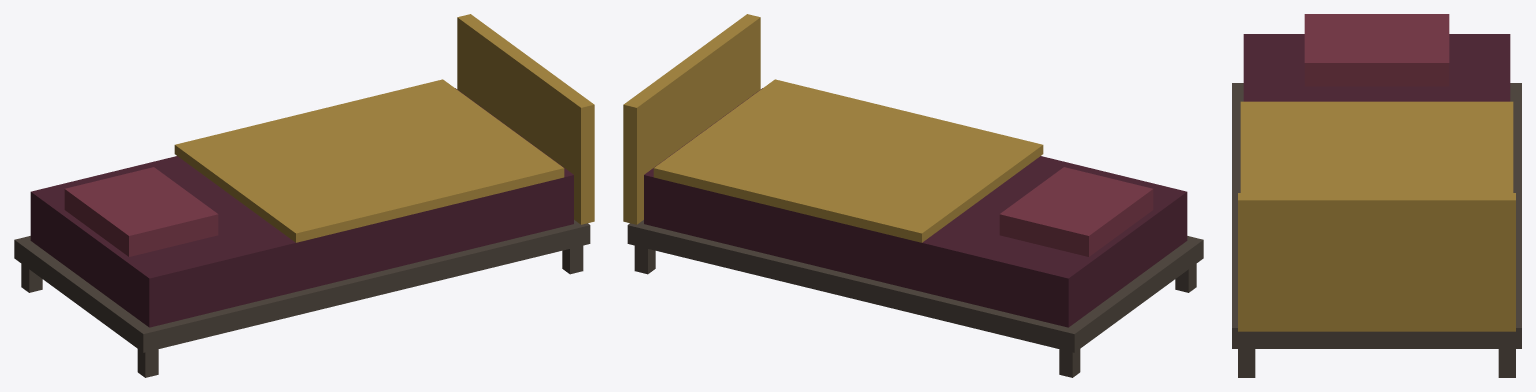
Rendered from criminal_bunk.glb.
3 renders of one model, left to right at view 1: azimuth 30°, elevation 25°; view 2: azimuth 150°, elevation 25°; view 3: azimuth 270°, elevation 25°, orthographic. The views are drawn at different scales.
Visible parts, largest first — view 1: criminal_bunk; view 2: criminal_bunk; view 3: criminal_bunk.
Part boxes in pixels (<box>): criminal_bunk: <box>14,14,594,377</box>; criminal_bunk: <box>623,14,1203,377</box>; criminal_bunk: <box>1232,14,1521,377</box>.
Bounding box in the file's own units: 2.03 × 0.7 × 1.
